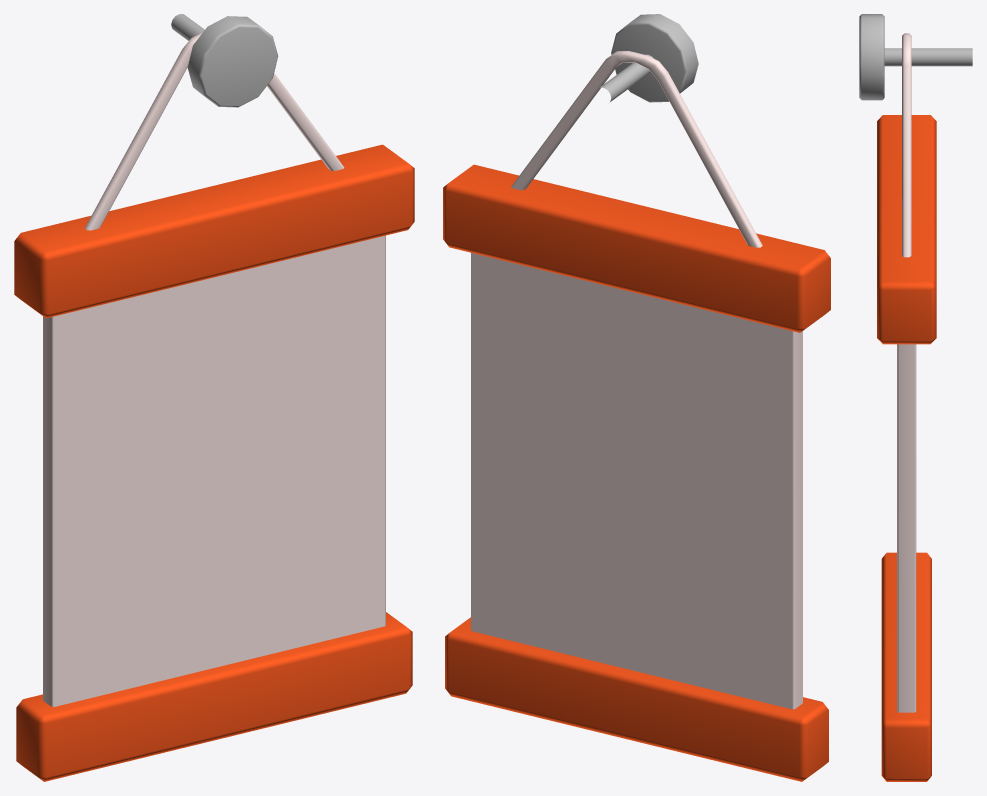
The model's file is Store_2_Menu_2.glb.
3 views of the same model, side by side, from view 1: azimuth 30°, elevation 25°; view 2: azimuth 150°, elevation 25°; view 3: azimuth 270°, elevation 25° (orthographic). The views are drawn at different scales.
Parts seen in each view (by area): view 1: Store_2_Menu_2; view 2: Store_2_Menu_2; view 3: Store_2_Menu_2.
Part boxes in pixels (<box>): Store_2_Menu_2: <box>14,14,414,781</box>; Store_2_Menu_2: <box>443,14,830,781</box>; Store_2_Menu_2: <box>859,14,972,781</box>.
Size of the model in its own units: 0.557 by 1.03 by 0.1548.
1 material, 1 textured.
